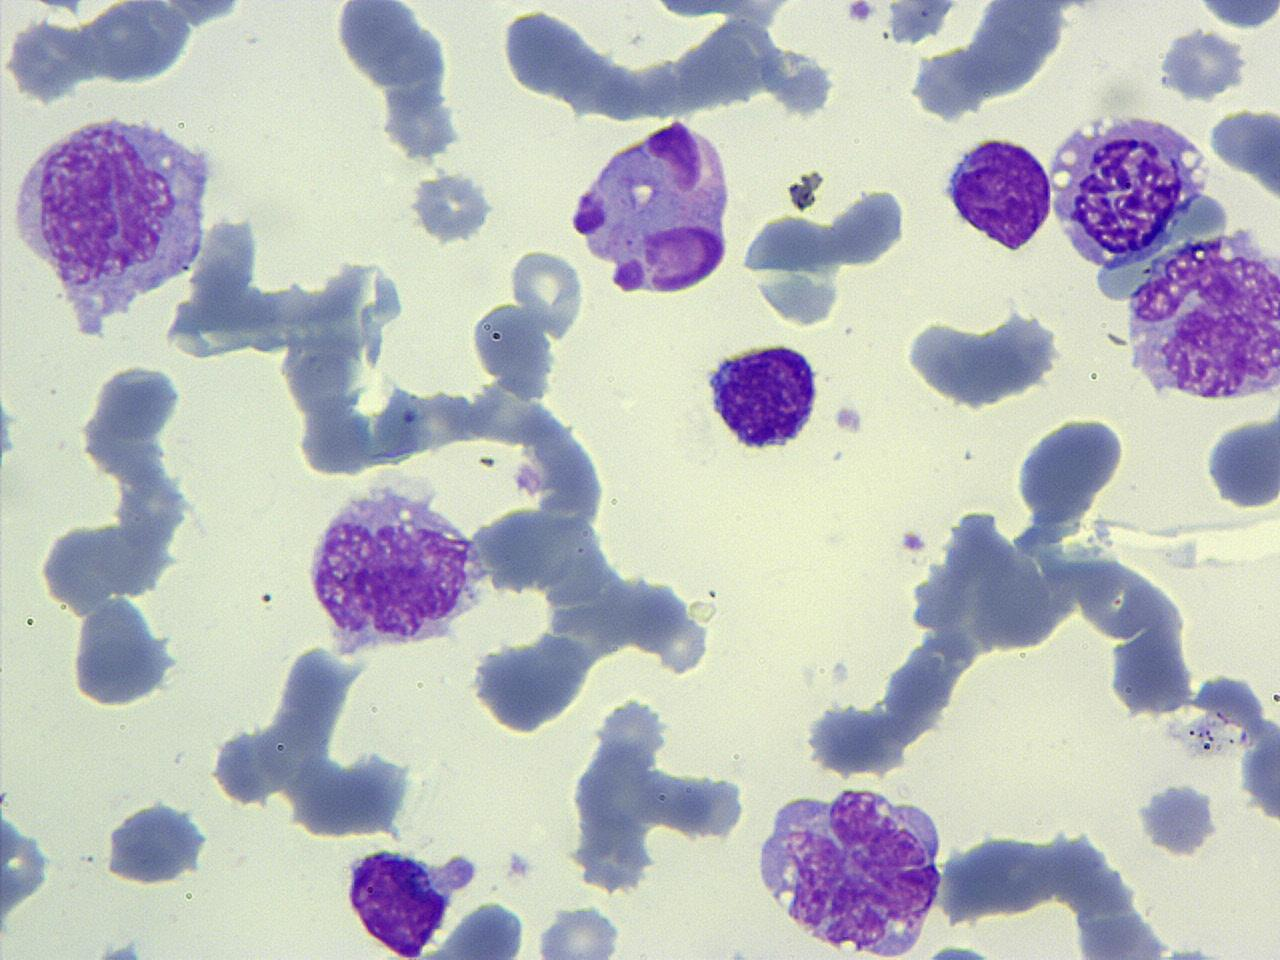Platelets: (1155, 27, 1251, 103), (406, 168, 498, 246), (1137, 778, 1217, 860), (531, 904, 632, 959), (1191, 0, 1280, 31), (924, 940, 992, 960), (832, 400, 866, 437), (0, 400, 17, 465), (504, 848, 536, 882), (1165, 940, 1215, 960), (99, 938, 144, 960), (898, 526, 928, 556), (845, 1, 878, 26)
RBC: (509, 243, 588, 344)
WBC: (297, 2, 902, 172), (0, 106, 222, 342), (205, 638, 422, 844), (750, 776, 950, 959), (302, 470, 488, 660), (926, 821, 1184, 957), (0, 0, 262, 126), (564, 114, 738, 301), (1122, 202, 1280, 402), (734, 175, 912, 334), (1042, 106, 1204, 275), (888, 1, 1078, 130), (329, 0, 472, 169), (465, 248, 585, 406), (900, 307, 1066, 415), (701, 337, 825, 454), (940, 132, 1056, 254), (66, 593, 184, 710), (1015, 410, 1131, 528), (342, 844, 462, 958), (101, 796, 212, 890), (0, 778, 59, 954), (1201, 401, 1280, 515), (412, 900, 533, 960), (1135, 780, 1219, 860), (1237, 702, 1280, 838), (530, 904, 630, 959)
